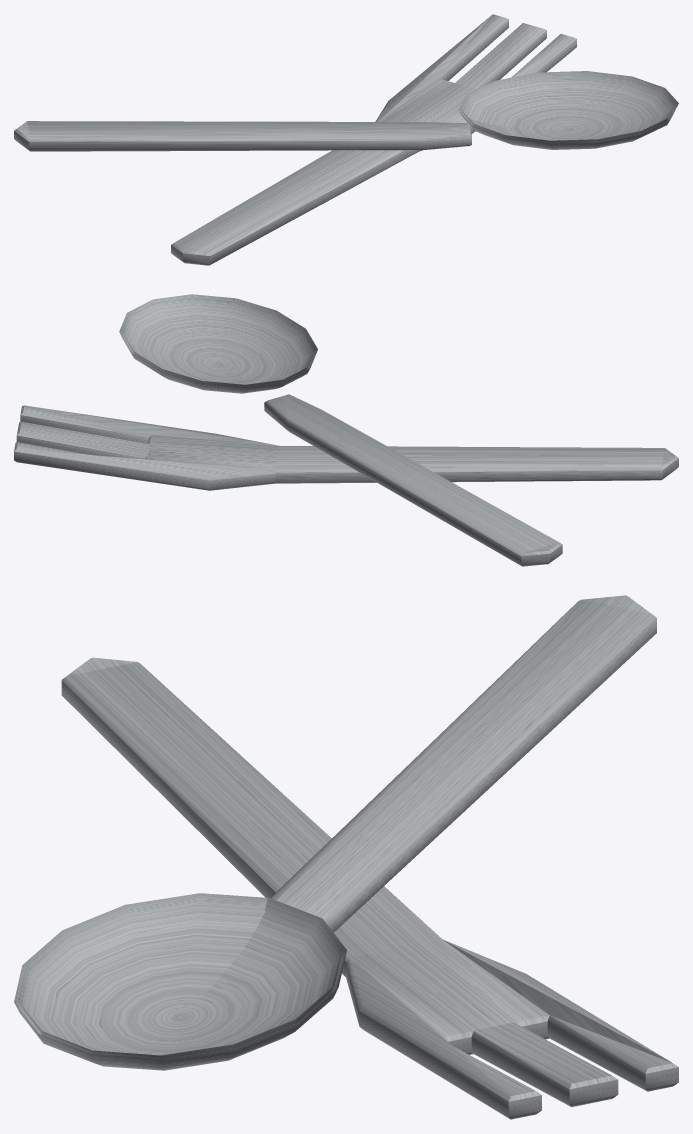
The model's file is silverware.obj.
The picture shows the model from 3 angles, top to bottom: view 1: azimuth 30°, elevation 25°; view 2: azimuth 150°, elevation 25°; view 3: azimuth 270°, elevation 25°; orthographic projection. The views are drawn at different scales.
Parts seen in each view (by area): view 1: silverware_0_surface; view 2: silverware_0_surface; view 3: silverware_0_surface.
Part boxes in pixels (box(x1,y1,x2,y2)): silverware_0_surface: box(14, 14, 678, 265); silverware_0_surface: box(14, 294, 678, 566); silverware_0_surface: box(14, 595, 678, 1119).
Size of the model in its own units: 0.2015 by 0.0197 by 0.1181.
1 material, 1 textured.
